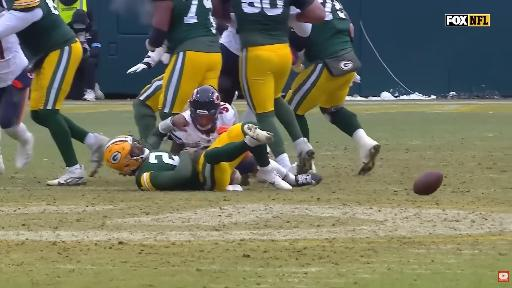Helmet: (104, 136, 148, 175), (189, 86, 220, 132)
Jersey: (4, 0, 75, 57), (231, 0, 315, 48), (305, 0, 352, 63), (168, 0, 219, 54), (135, 150, 201, 190), (135, 150, 179, 190), (171, 110, 218, 147), (0, 35, 28, 87), (220, 22, 241, 55), (220, 26, 240, 55)
Player: (0, 0, 108, 185), (230, 0, 325, 173), (287, 0, 380, 174), (104, 123, 291, 190), (147, 0, 221, 119), (159, 86, 238, 154), (0, 35, 34, 168), (169, 86, 238, 151), (133, 75, 163, 142), (219, 18, 241, 104), (219, 17, 241, 103)
